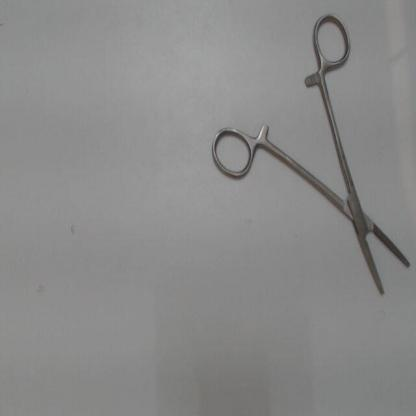Mayo Needle Holder: (205, 8, 414, 313)
